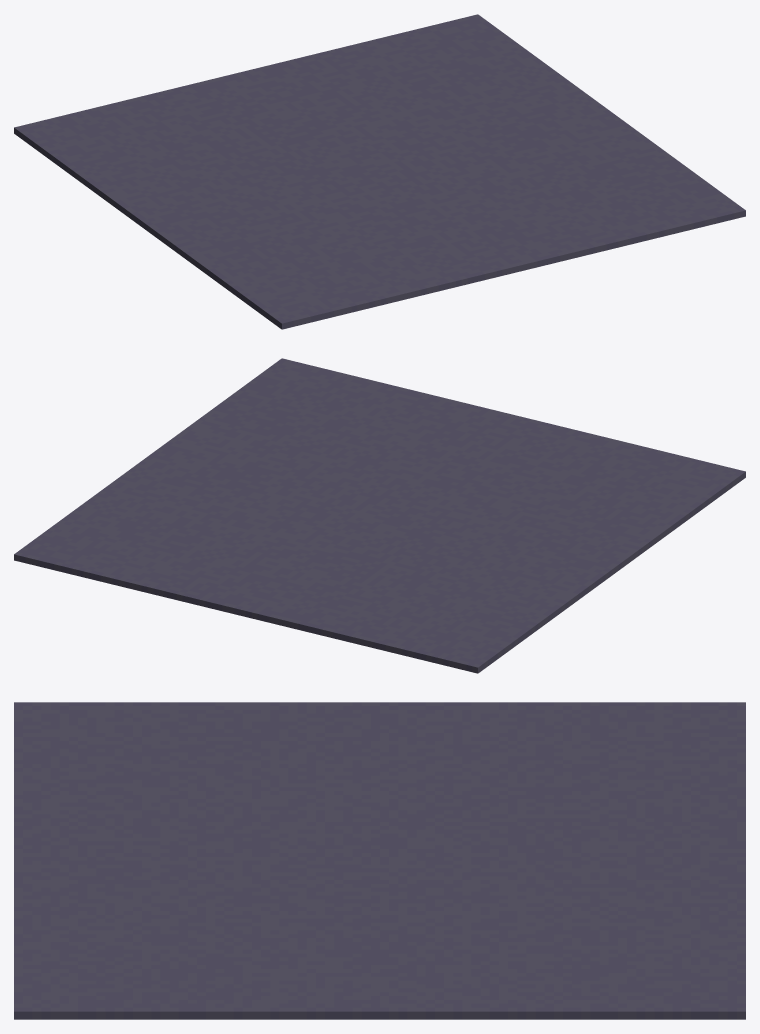
The model's file is floor_01_L.dae.
The picture shows the model from 3 angles, top to bottom: view 1: azimuth 30°, elevation 25°; view 2: azimuth 150°, elevation 25°; view 3: azimuth 270°, elevation 25°; orthographic projection. The views are drawn at different scales.
Visible parts, largest first — view 1: Untitled; view 2: Untitled; view 3: Untitled.
Boxes of the visible parts, left/top/right/bottom form: Untitled: left=14, top=14, right=745, bottom=329; Untitled: left=14, top=358, right=745, bottom=673; Untitled: left=14, top=702, right=745, bottom=1019.
Bounding box in the file's own units: 2.4 × 2.4 × 0.03.
1 material, 1 textured.
